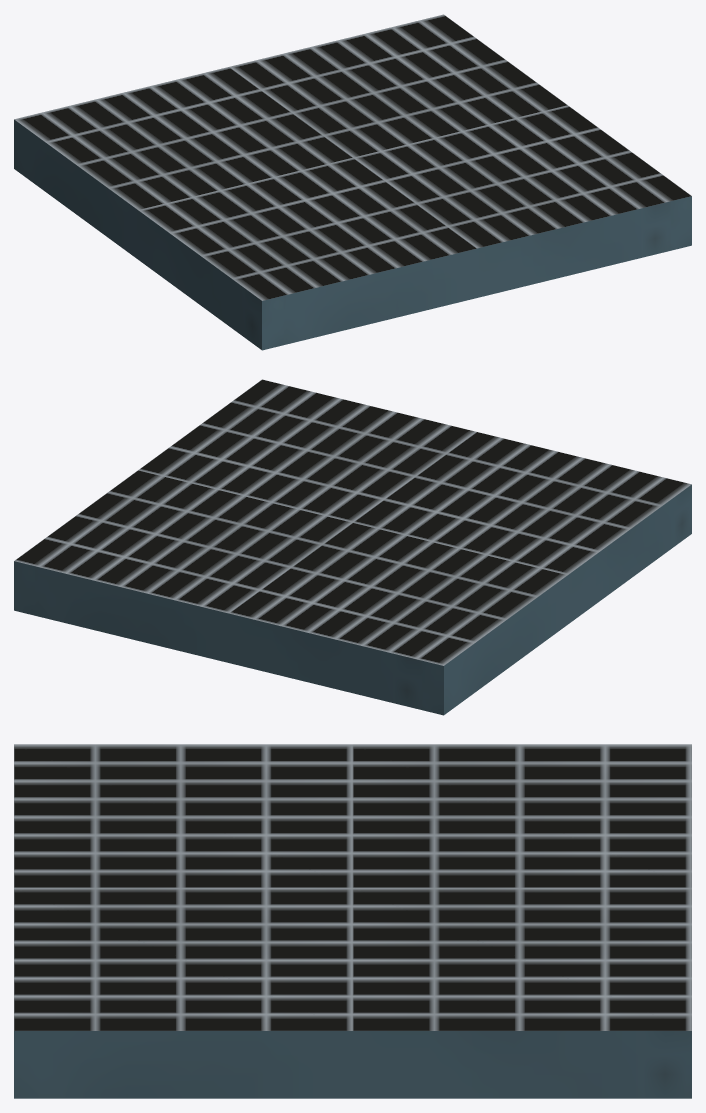
The model's file is floor_gallery.fbx.
3 renders of one model, top to bottom at view 1: azimuth 30°, elevation 25°; view 2: azimuth 150°, elevation 25°; view 3: azimuth 270°, elevation 25°, orthographic. The views are drawn at different scales.
Visible parts, largest first — view 1: floor_gallery; view 2: floor_gallery; view 3: floor_gallery.
Part boxes in pixels (x1=…): floor_gallery: x1=14, y1=14, x2=691, y2=350; floor_gallery: x1=14, y1=379, x2=691, y2=715; floor_gallery: x1=14, y1=744, x2=691, y2=1098.
Bounding box in the file's own units: 2 × 0.22 × 2.
1 material, 1 textured.
